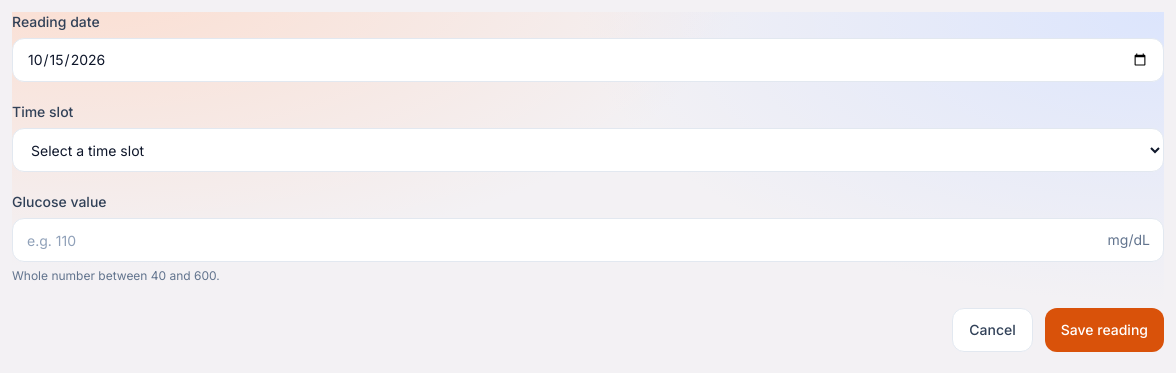
Test case: ReadingForm › rejects 39 with the range message
The width and height of the screenshot is (1176, 373).
Select "Morning (Fasting)" in the dropdown labelled "Time slot" at (588, 150), box [12, 128, 1164, 172]
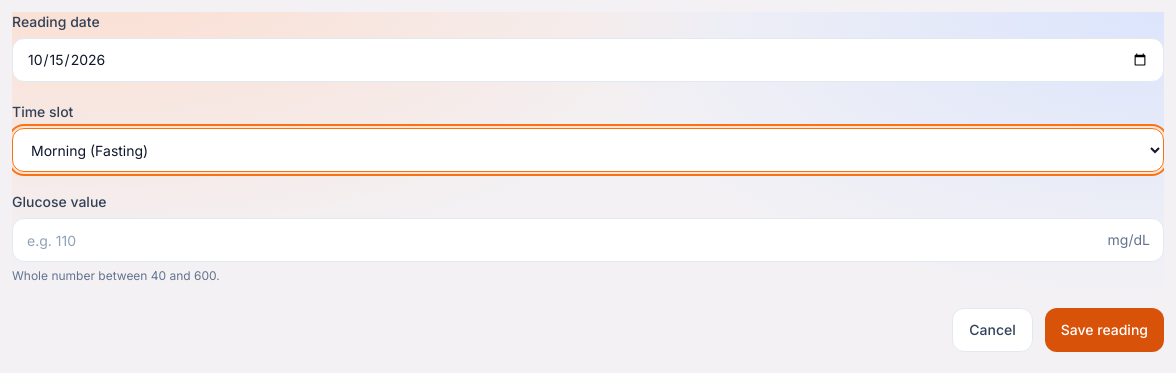
Type "39" into the number field labelled "Glucose value" at (588, 240), box [12, 218, 1164, 262]
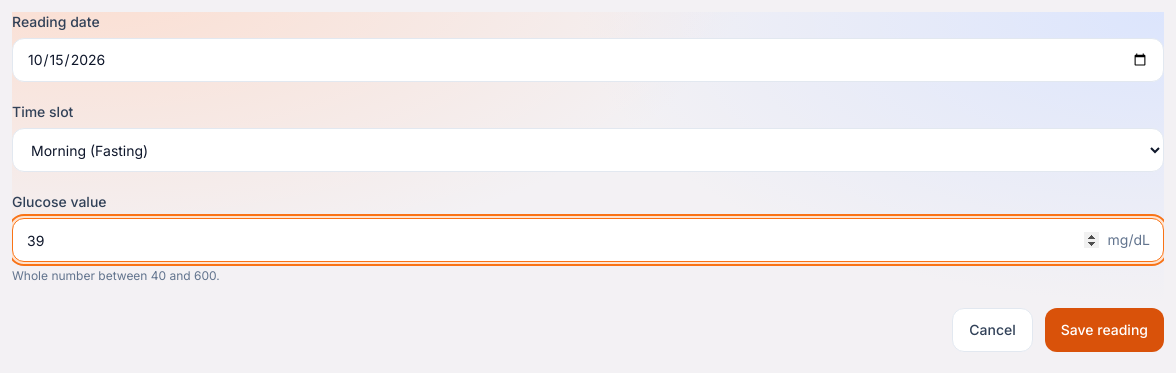
Click the button "Save reading" at (1104, 330), box [1045, 308, 1164, 352]
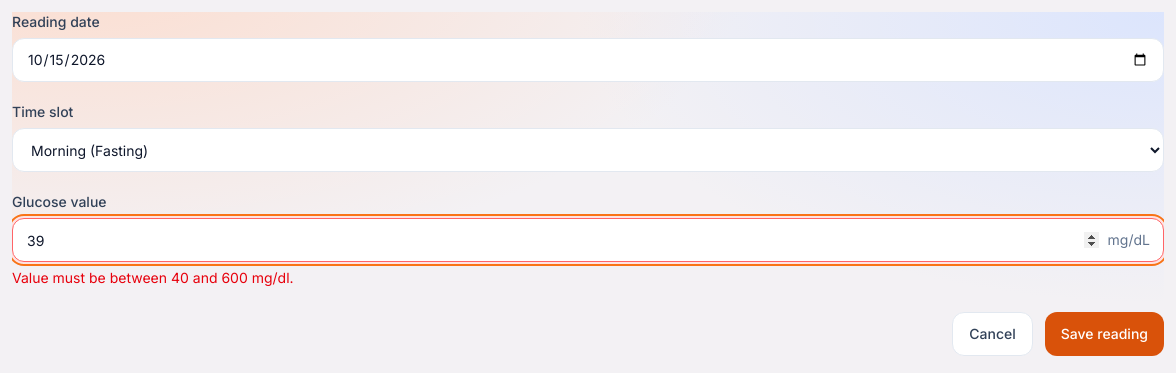
Expected: the text "Value must be between 40 and 600 mg/dl." is shown, [12, 269, 294, 286]
